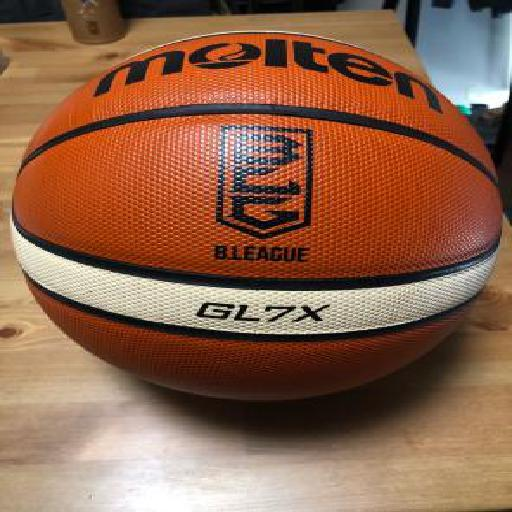ball: (12, 30, 501, 403)
